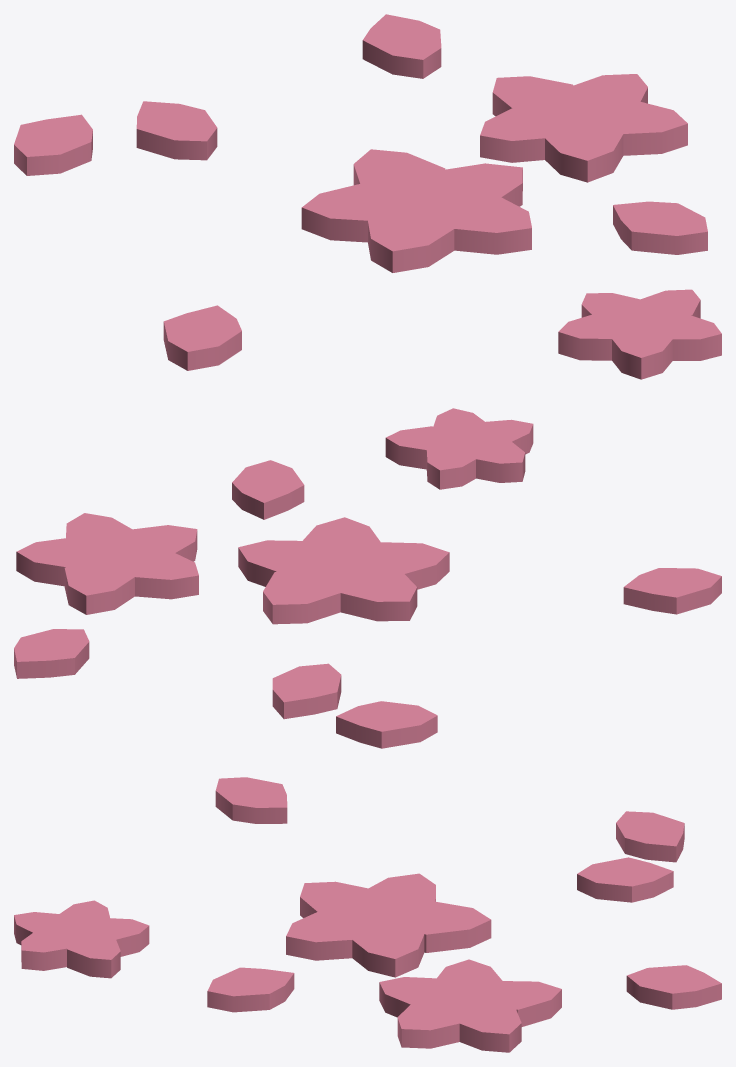
The model's file is petals.gltf.
3 renders of one model, top to bottom at view 1: azimuth 30°, elevation 25°; view 2: azimuth 150°, elevation 25°; view 3: azimuth 270°, elevation 25°, orthographic. The views are drawn at different scales.
Visible parts, largest first — view 1: pCube2, pCube1, pCube5, pCube6, pCube1.001, pCube8, pCube10, pCube9, pCube7, pCube2.001, pCube5.001, pCube4 (+8 smaller); view 2: pCube2, pCube7, pCube9, pCube3, pCube10, pCube6, pCube8, pCube4, pCube3.001, pCube2.001, pCube1, pCube4.001 (+8 smaller); view 3: pCube4, pCube3, pCube8, pCube10, pCube6, pCube5, pCube9, pCube4.001, pCube7, pCube5.001, pCube3.001, pCube1.001 (+8 smaller).
Part boxes in pixels (box(x1,y1,x2,y2)): pCube2: box(301, 183, 421, 242); pCube1: box(368, 198, 454, 272); pCube5: box(431, 194, 531, 254); pCube6: box(613, 201, 707, 254); pCube1.001: box(541, 112, 623, 182); pCube8: box(136, 101, 217, 160); pCube10: box(362, 14, 441, 78); pCube9: box(163, 305, 241, 370); pCube7: box(14, 114, 92, 175); pCube2.001: box(480, 106, 581, 162); pCube5.001: box(578, 100, 687, 155); pCube4: box(419, 163, 522, 206); pCube2: box(333, 566, 417, 621); pCube7: box(336, 701, 437, 748); pCube9: box(623, 568, 721, 614); pCube3: box(263, 567, 340, 624); pCube10: box(14, 629, 89, 678); pCube6: box(232, 460, 304, 519); pCube8: box(272, 663, 341, 719); pCube4: box(238, 540, 345, 586); pCube3.001: box(64, 553, 134, 614); pCube2.001: box(110, 549, 198, 599); pCube1: box(341, 542, 449, 589); pCube4.001: box(16, 537, 116, 586); pCube4: box(347, 912, 424, 977); pCube3: box(381, 901, 491, 952); pCube8: box(577, 857, 673, 902); pCube10: box(626, 965, 721, 1009); pCube6: box(207, 967, 294, 1012); pCube5: box(286, 910, 382, 960); pCube9: box(215, 777, 287, 823); pCube4.001: box(453, 997, 521, 1052); pCube7: box(616, 811, 684, 862); pCube5.001: box(397, 999, 470, 1048); pCube3.001: box(467, 981, 561, 1026); pCube1.001: box(379, 977, 467, 1017).
Size of the model in its own units: 2.63 by 0.0878 by 3.05.
